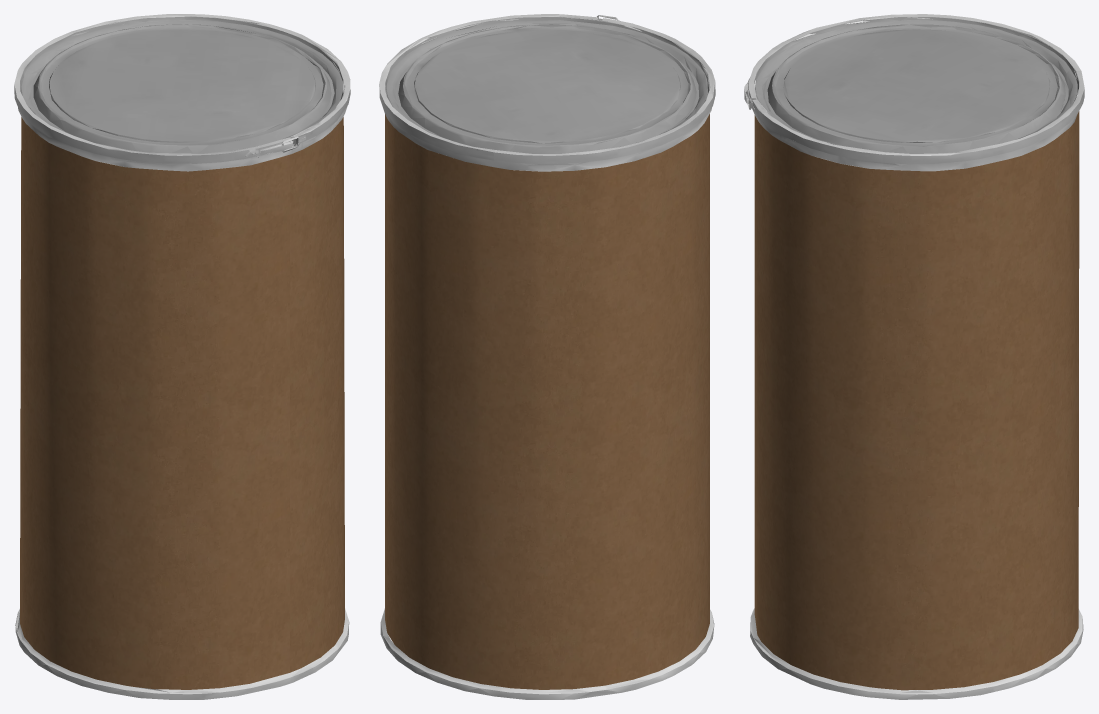
File: fiberdrum_a01.glb
3 renders of one model, left to right at view 1: azimuth 30°, elevation 25°; view 2: azimuth 150°, elevation 25°; view 3: azimuth 270°, elevation 25°, orthographic.
Parts seen in each view (by area): view 1: root; view 2: root; view 3: root.
Boxes of the visible parts, x1,y1,x2,y2 form: root: [14, 14, 350, 699]; root: [379, 14, 715, 699]; root: [744, 14, 1084, 699].
Size of the model in its own units: 0.6205 by 1.11 by 0.6283.
3 materials, 3 textured.
